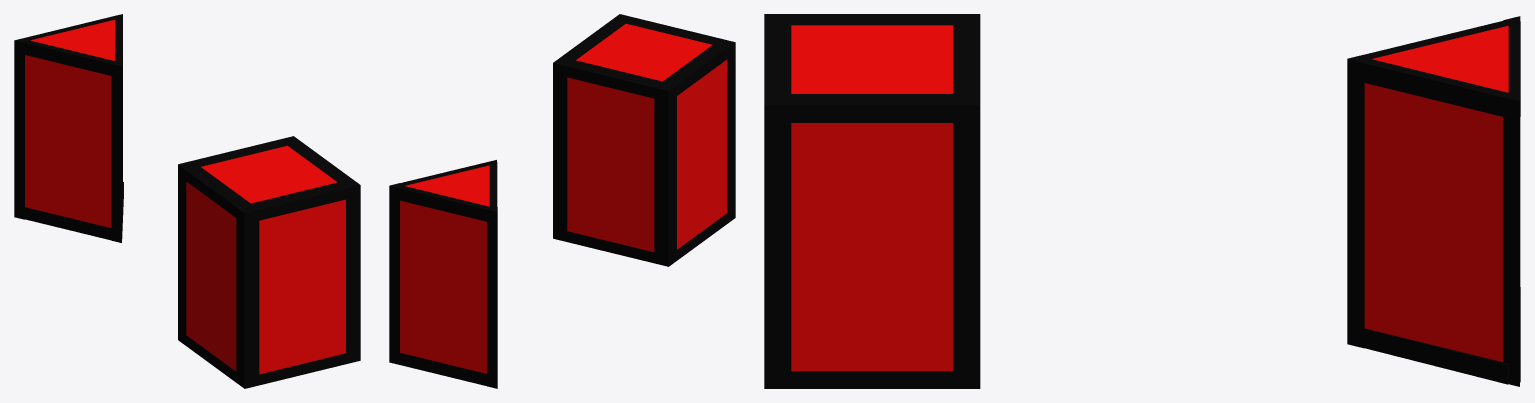
The model's file is Prizm_Red.glb.
3 views of the same model, side by side, from view 1: azimuth 30°, elevation 25°; view 2: azimuth 150°, elevation 25°; view 3: azimuth 270°, elevation 25° (orthographic). The views are drawn at different scales.
Visible parts, largest first — view 1: Cube, 20255_Triangular_Prism_V1.001, 20255_Triangular_Prism_V1.004, 20255_Triangular_Prism_V1.002, Cube.003, Cube.004, Cube.005, Cube.002; view 2: Cube, 20255_Triangular_Prism_V1.001, 20255_Triangular_Prism_V1.004, 20255_Triangular_Prism_V1.003, Cube.005, Cube.006, Cube.002, Cube.003; view 3: Cube, 20255_Triangular_Prism_V1.001, 20255_Triangular_Prism_V1.002, 20255_Triangular_Prism_V1.003, Cube.002, Cube.001, Cube.003, Cube.005.
Boxes of the visible parts, x1,y1,x2,y2 form: Cube: (178, 136, 360, 388); 20255_Triangular_Prism_V1.001: (25, 19, 115, 227); 20255_Triangular_Prism_V1.004: (14, 38, 24, 219); 20255_Triangular_Prism_V1.002: (111, 61, 121, 242); Cube.003: (25, 39, 117, 77); Cube.004: (25, 207, 117, 241); Cube.005: (25, 16, 118, 40); Cube.002: (115, 17, 122, 75); Cube: (553, 14, 735, 266); 20255_Triangular_Prism_V1.001: (400, 165, 489, 373); 20255_Triangular_Prism_V1.004: (487, 207, 497, 388); 20255_Triangular_Prism_V1.003: (389, 183, 399, 363); Cube.005: (394, 185, 493, 222); Cube.006: (394, 351, 490, 386); Cube.002: (400, 162, 493, 186); Cube.003: (489, 162, 497, 208); Cube: (764, 14, 980, 388); 20255_Triangular_Prism_V1.001: (1364, 25, 1508, 361); 20255_Triangular_Prism_V1.002: (1347, 54, 1364, 348); 20255_Triangular_Prism_V1.003: (1503, 93, 1519, 386); Cube.002: (1354, 57, 1513, 116); Cube.001: (1356, 326, 1508, 384); Cube.003: (1364, 20, 1515, 58); Cube.005: (1508, 21, 1520, 116).
Size of the model in its own units: 2 by 2.92 by 7.01.
